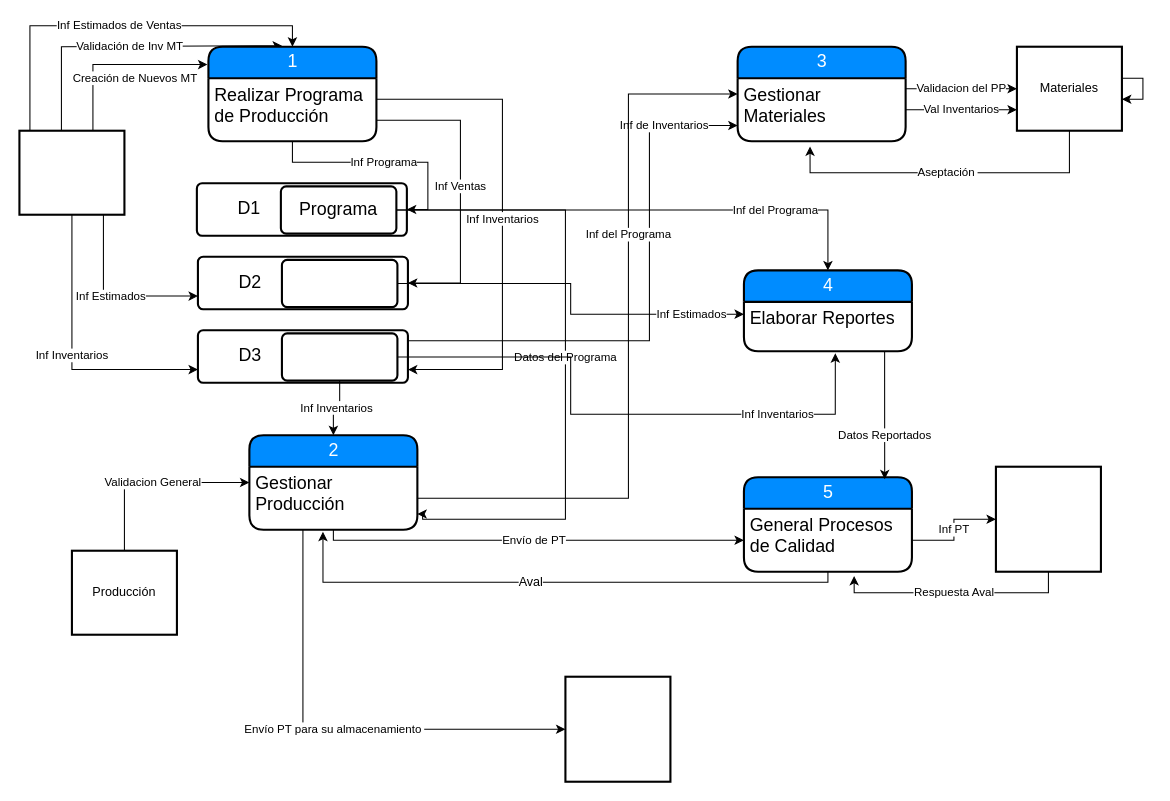
Some shapes in this 1170 by 801 pixel diagram are drawn without their labels. The centre of each missing label's shape, as x and y in pixels:
"Calidad" goes at pixel 1047 518.
"Distribución CDN" goes at pixel 617 728.
"Estimados Ventas" goes at pixel 339 283.
"Inventarios" goes at pixel 339 356.
"Planeación" goes at pixel 71 172.
